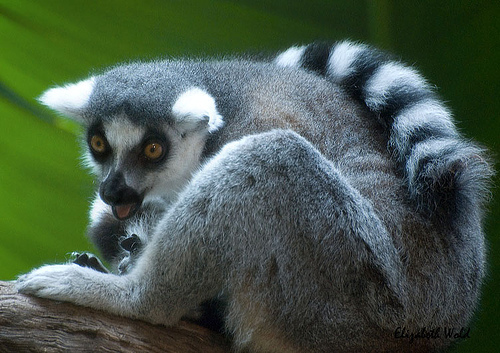cat: (21, 41, 486, 352)
